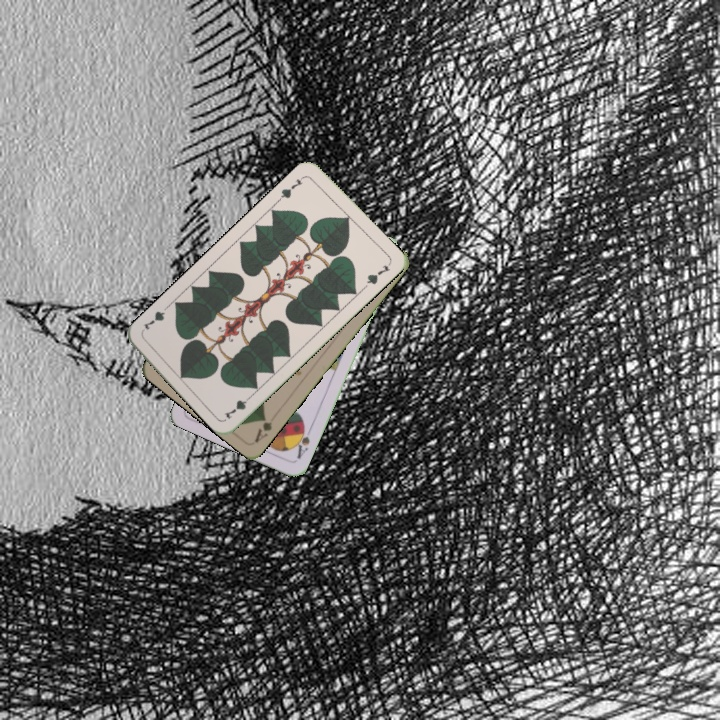G7: (220, 390, 256, 422), (274, 172, 308, 203)
GA: (251, 412, 275, 445)
SA: (290, 421, 314, 461)
